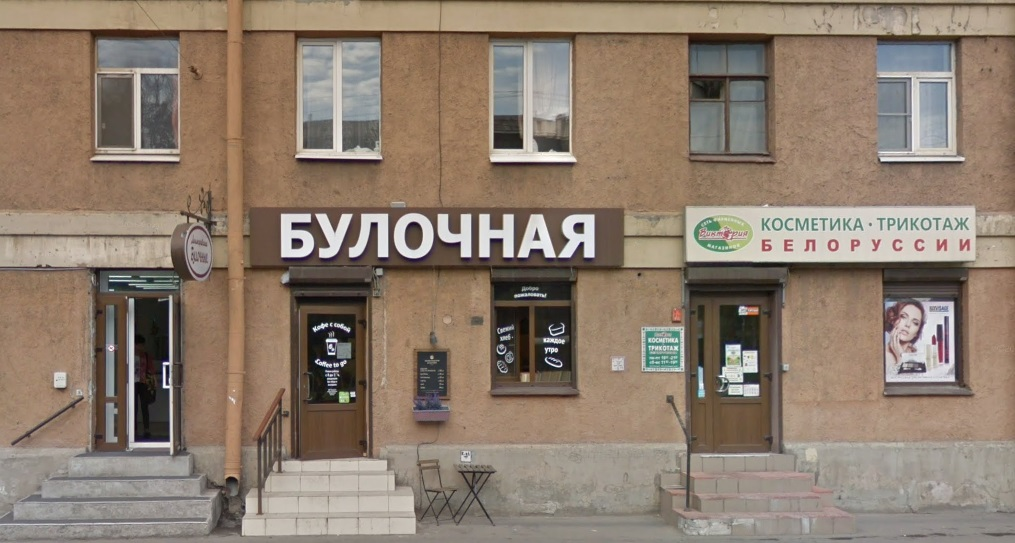cantilever: (163, 172, 230, 282)
door: (686, 289, 774, 451), (100, 291, 186, 456), (294, 297, 369, 456)
signboard: (250, 206, 626, 269), (686, 206, 973, 261)
window: (297, 33, 385, 156), (94, 31, 181, 150), (487, 35, 574, 154), (489, 274, 573, 390), (875, 43, 960, 155), (689, 41, 770, 155), (883, 278, 961, 388)
